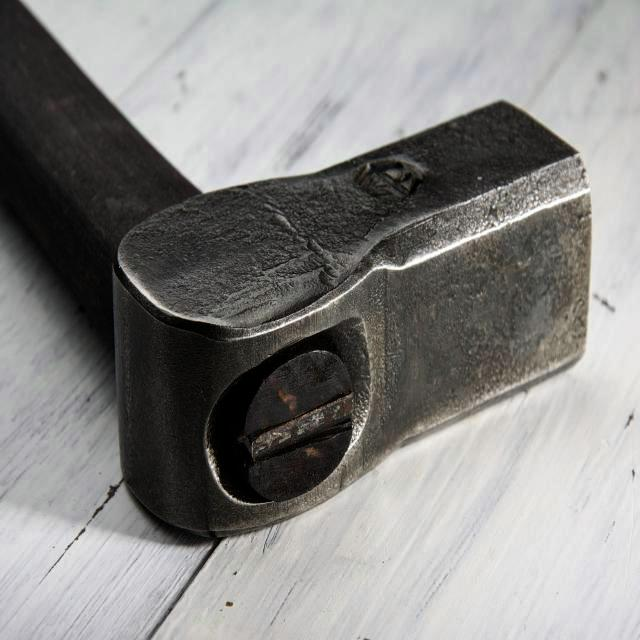hammer: (0, 0, 602, 552)
